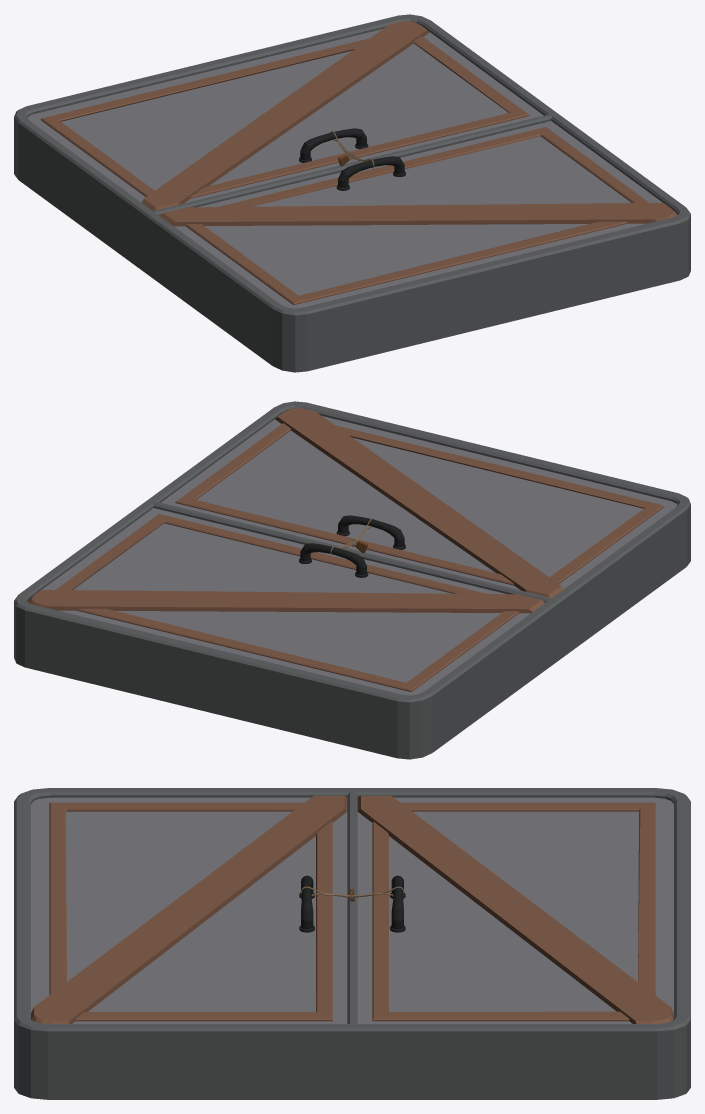
The model's file is Trap Door.fbx.
3 views of the same model, one above another, from view 1: azimuth 30°, elevation 25°; view 2: azimuth 150°, elevation 25°; view 3: azimuth 270°, elevation 25° (orthographic). The views are drawn at different scales.
Parts seen in each view (by area): view 1: Trap Door, Handles; view 2: Trap Door, Handles; view 3: Trap Door, Handles.
Part boxes in pixels (left/top/right/bottom): Trap Door: left=14, top=14, right=690, bottom=372; Handles: left=299, top=128, right=405, bottom=190; Trap Door: left=14, top=401, right=690, bottom=759; Handles: left=299, top=515, right=405, bottom=577; Trap Door: left=14, top=788, right=690, bottom=1099; Handles: left=299, top=875, right=405, bottom=932.
Bounding box in the file's own units: 11 × 1.96 × 13.
